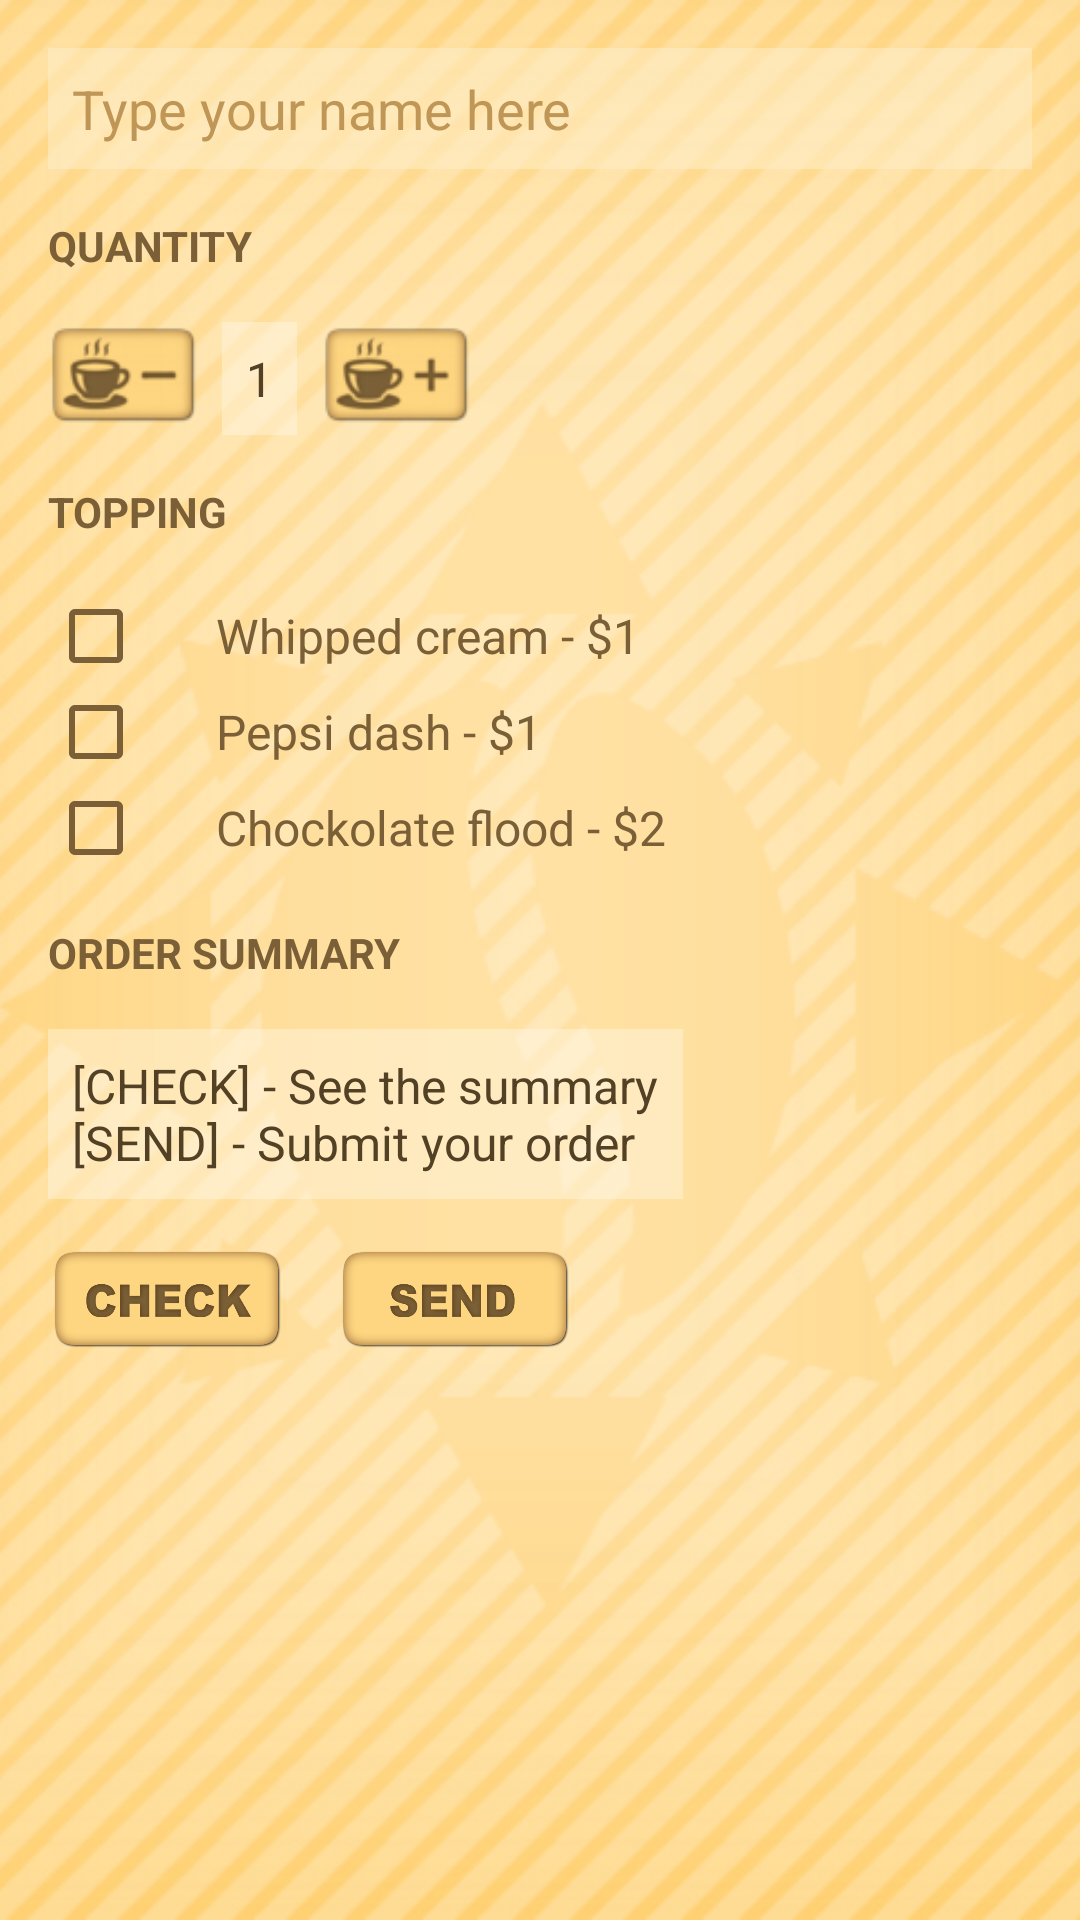

Point at icon controls on the screen. Image size 1080x1920, points as point (x, y).
mins: point (122, 374)
plus: point (397, 375)
